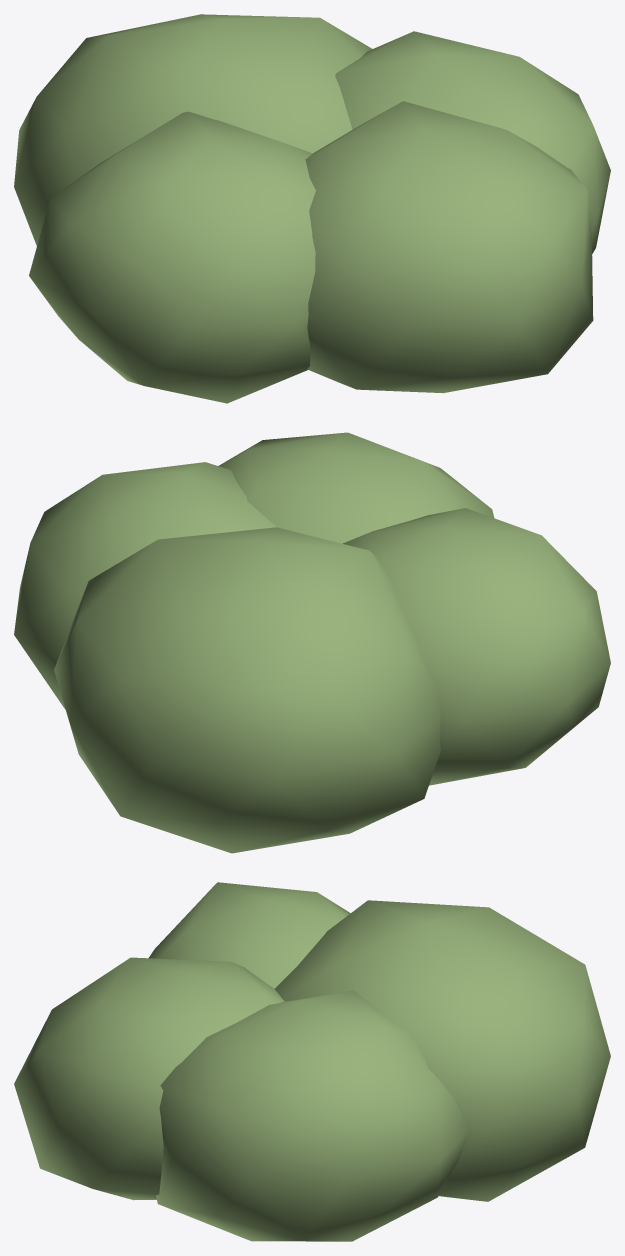
The model's file is bush.glb.
3 views of the same model, one above another, from view 1: azimuth 30°, elevation 25°; view 2: azimuth 150°, elevation 25°; view 3: azimuth 270°, elevation 25° (orthographic). The views are drawn at different scales.
Visible parts, largest first — view 1: bush; view 2: bush; view 3: bush.
Boxes of the visible parts, x1,y1,x2,y2 form: bush: [14, 14, 610, 403]; bush: [14, 432, 610, 853]; bush: [14, 882, 610, 1241].
Bounding box in the file's own units: 1.96 × 1.01 × 2.08.
